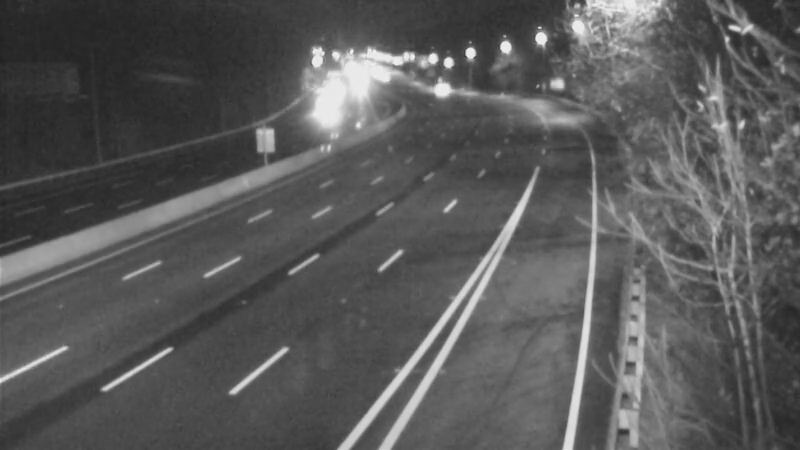vehicle: (410, 69, 460, 119), (296, 88, 346, 138)
